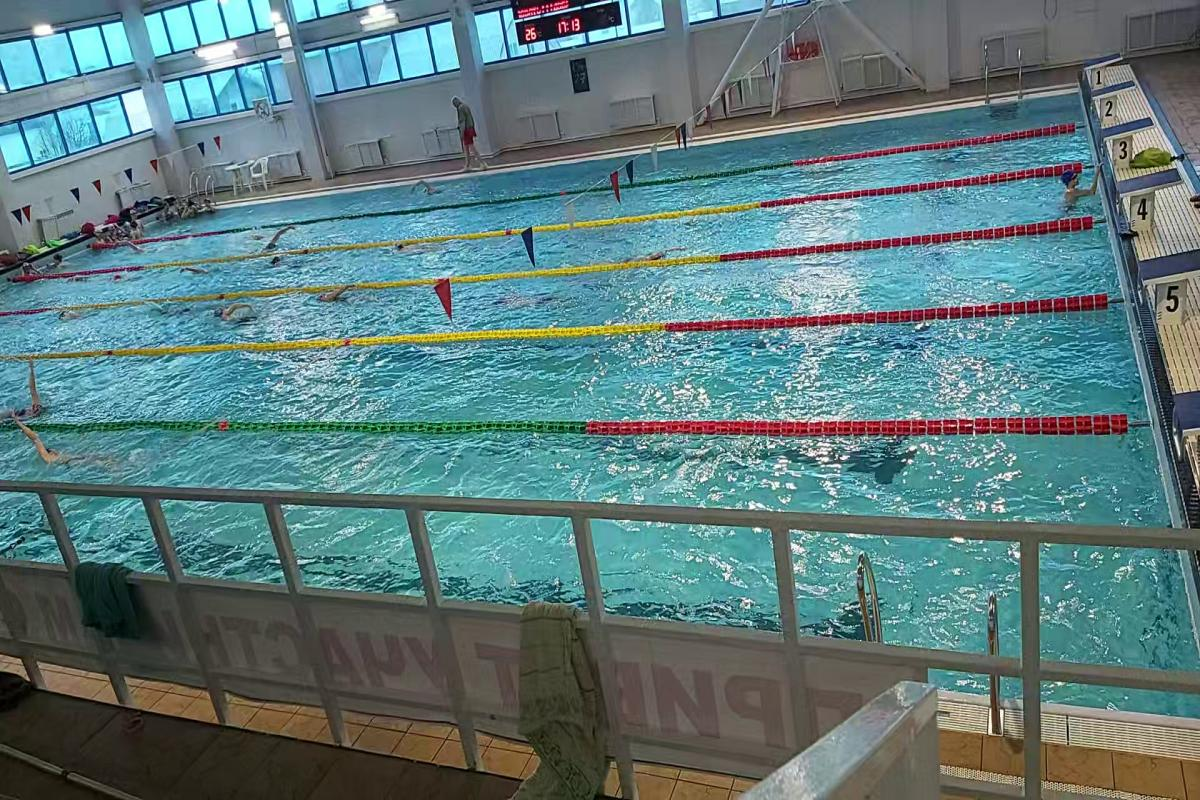swimmer: (18, 435, 127, 476), (6, 369, 56, 415), (1054, 162, 1097, 213), (210, 290, 260, 326), (316, 274, 361, 310), (259, 224, 303, 250)
